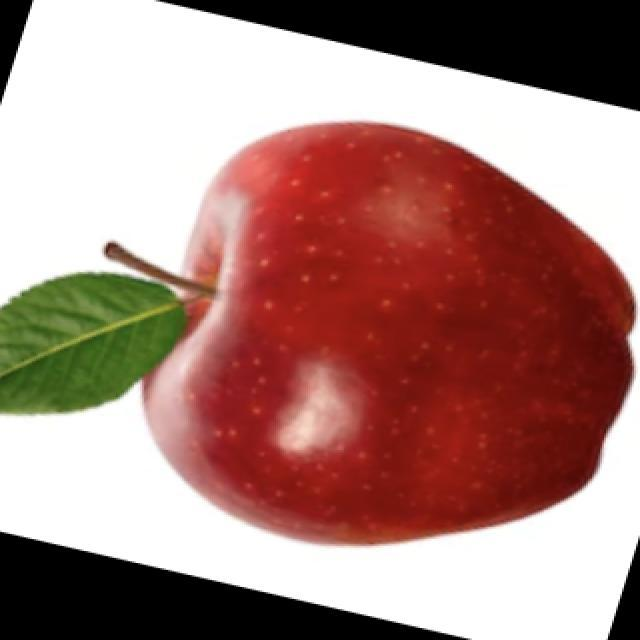Fresh Apple: (163, 118, 640, 640)
